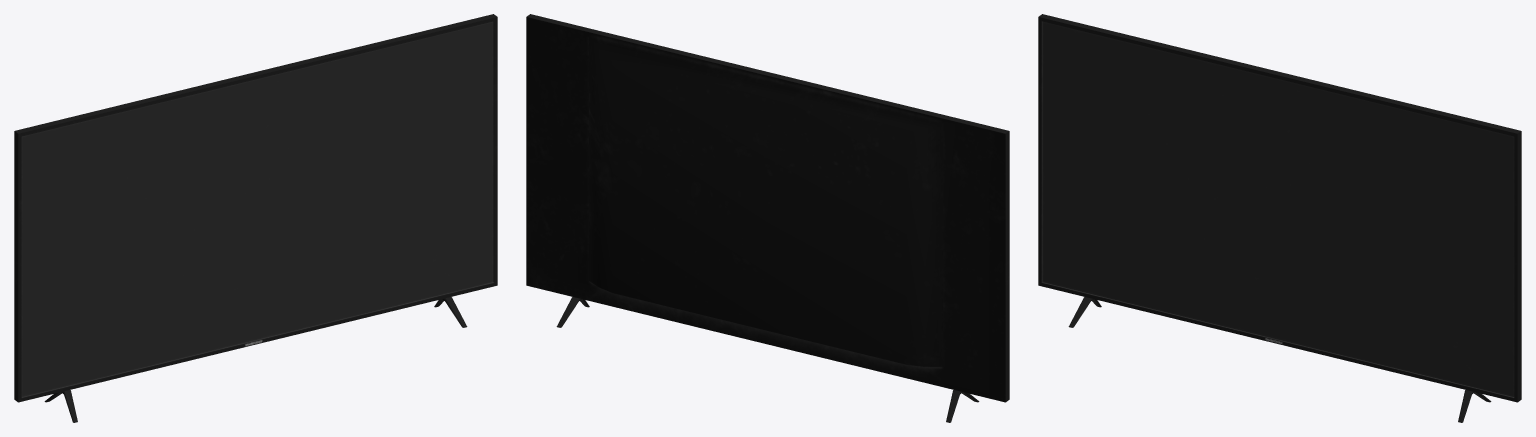
3 views of the same model, side by side, from view 1: azimuth 30°, elevation 25°; view 2: azimuth 150°, elevation 25°; view 3: azimuth 330°, elevation 25° (orthographic).
Visible parts, largest first — view 1: TV_Screen_Livingroom_TV_0, TV_Legs_Livingroom_TV_0; view 2: TV_Screen_Livingroom_TV_0, TV_Legs_Livingroom_TV_0; view 3: TV_Screen_Livingroom_TV_0, TV_Legs_Livingroom_TV_0.
Boxes of the visible parts, <box> form: TV_Screen_Livingroom_TV_0: <box>14,14,497,402</box>; TV_Legs_Livingroom_TV_0: <box>44,297,467,422</box>; TV_Screen_Livingroom_TV_0: <box>526,14,1009,402</box>; TV_Legs_Livingroom_TV_0: <box>556,297,979,422</box>; TV_Screen_Livingroom_TV_0: <box>1038,14,1521,402</box>; TV_Legs_Livingroom_TV_0: <box>1068,297,1491,422</box>.
Bounding box in the file's own units: 1.4 × 0.8103 × 0.1496.
1 material, 1 textured.
